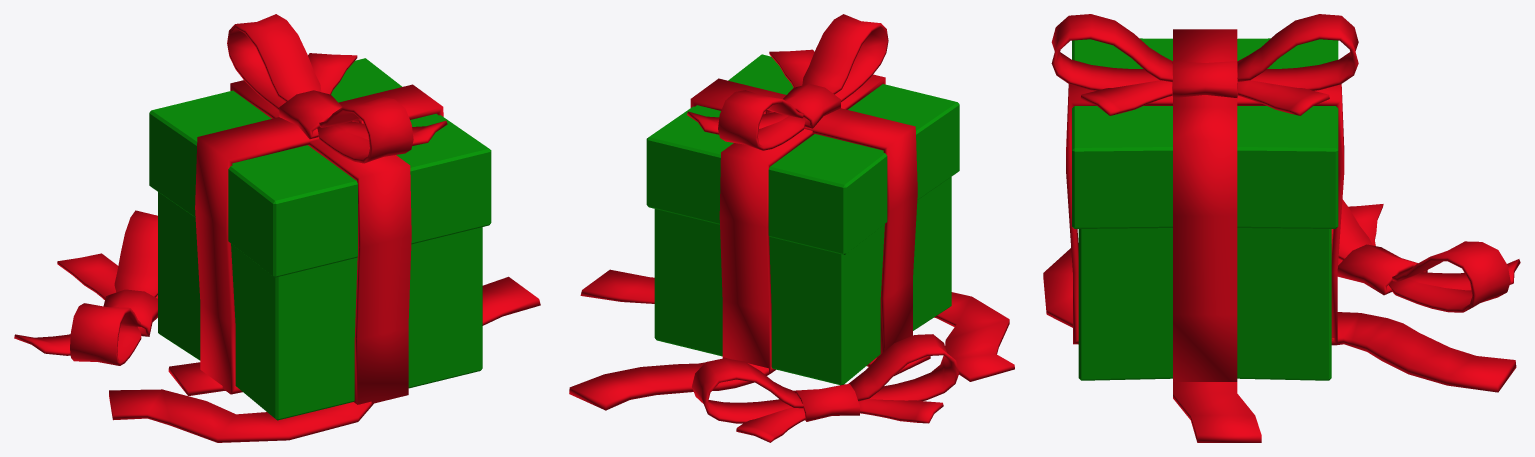
Rendered from gift_1.fbx.
3 views of the same model, side by side, from view 1: azimuth 30°, elevation 25°; view 2: azimuth 150°, elevation 25°; view 3: azimuth 270°, elevation 25° (orthographic). The views are drawn at different scales.
Parts seen in each view (by area): view 1: band_1, box_1, cap_1, band_1_open; view 2: band_1, box_1, cap_1, band_1_open; view 3: band_1, box_1, cap_1, band_1_open.
Boxes of the visible parts, <box> form: band_1: <box>195,14,447,404</box>; box_1: <box>158,192,482,420</box>; cap_1: <box>149,58,491,277</box>; band_1_open: <box>14,210,540,442</box>; band_1: <box>687,14,917,373</box>; box_1: <box>654,177,951,385</box>; cap_1: <box>646,54,959,254</box>; band_1_open: <box>569,269,1014,442</box>; band_1: <box>1051,14,1358,381</box>; box_1: <box>1078,228,1331,380</box>; cap_1: <box>1072,38,1338,228</box>; band_1_open: <box>1043,199,1520,442</box>.
Bounding box in the file's own units: 211 × 136 × 189.
